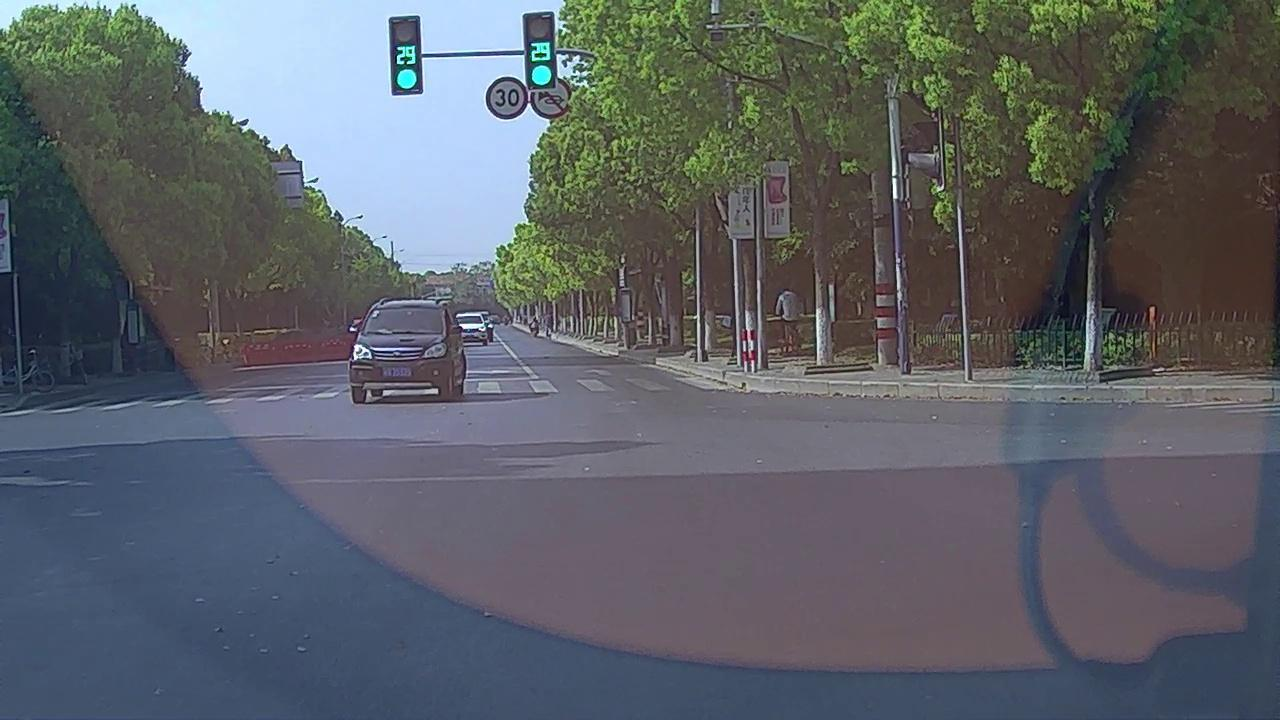traffic_light: (391, 18, 422, 94), (527, 16, 555, 88)
